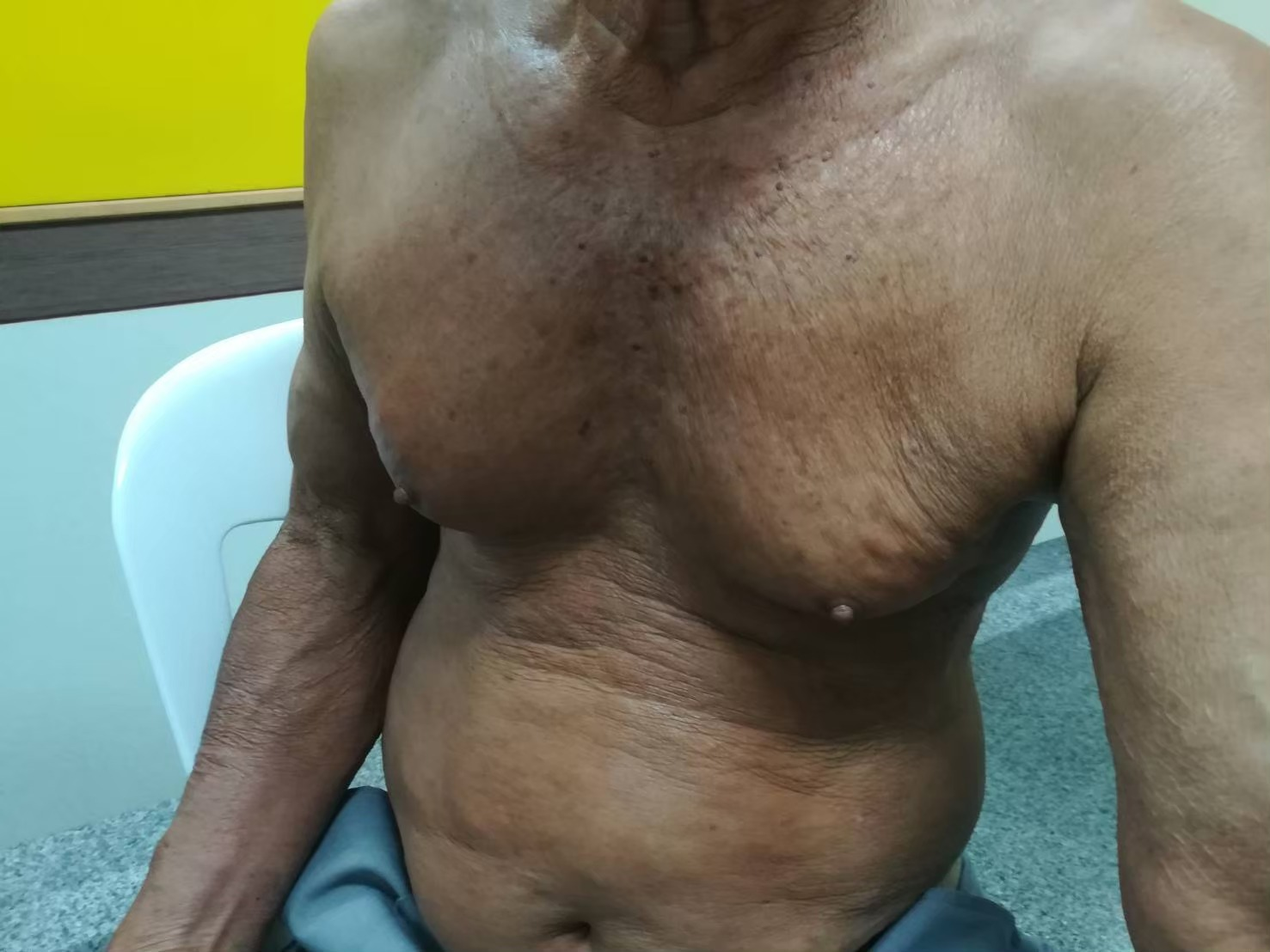Leprosy: (902, 511, 973, 582), (364, 389, 420, 446), (860, 522, 915, 571)
